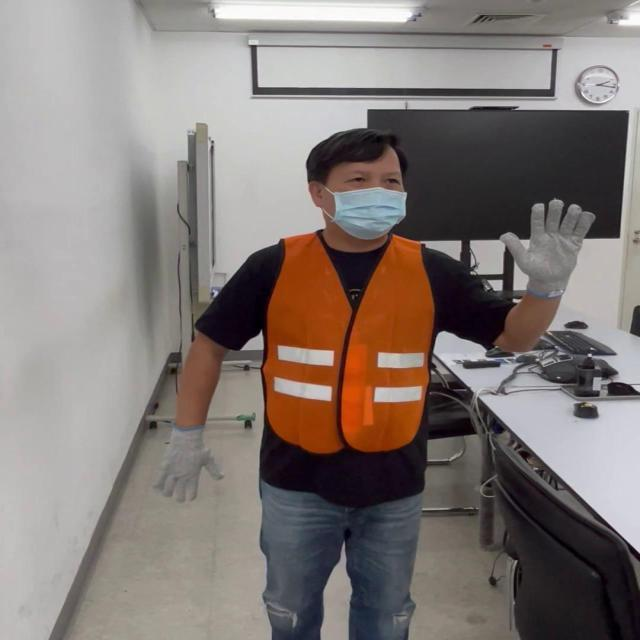gloved_hand: (497, 192, 600, 304), (148, 424, 224, 506)
